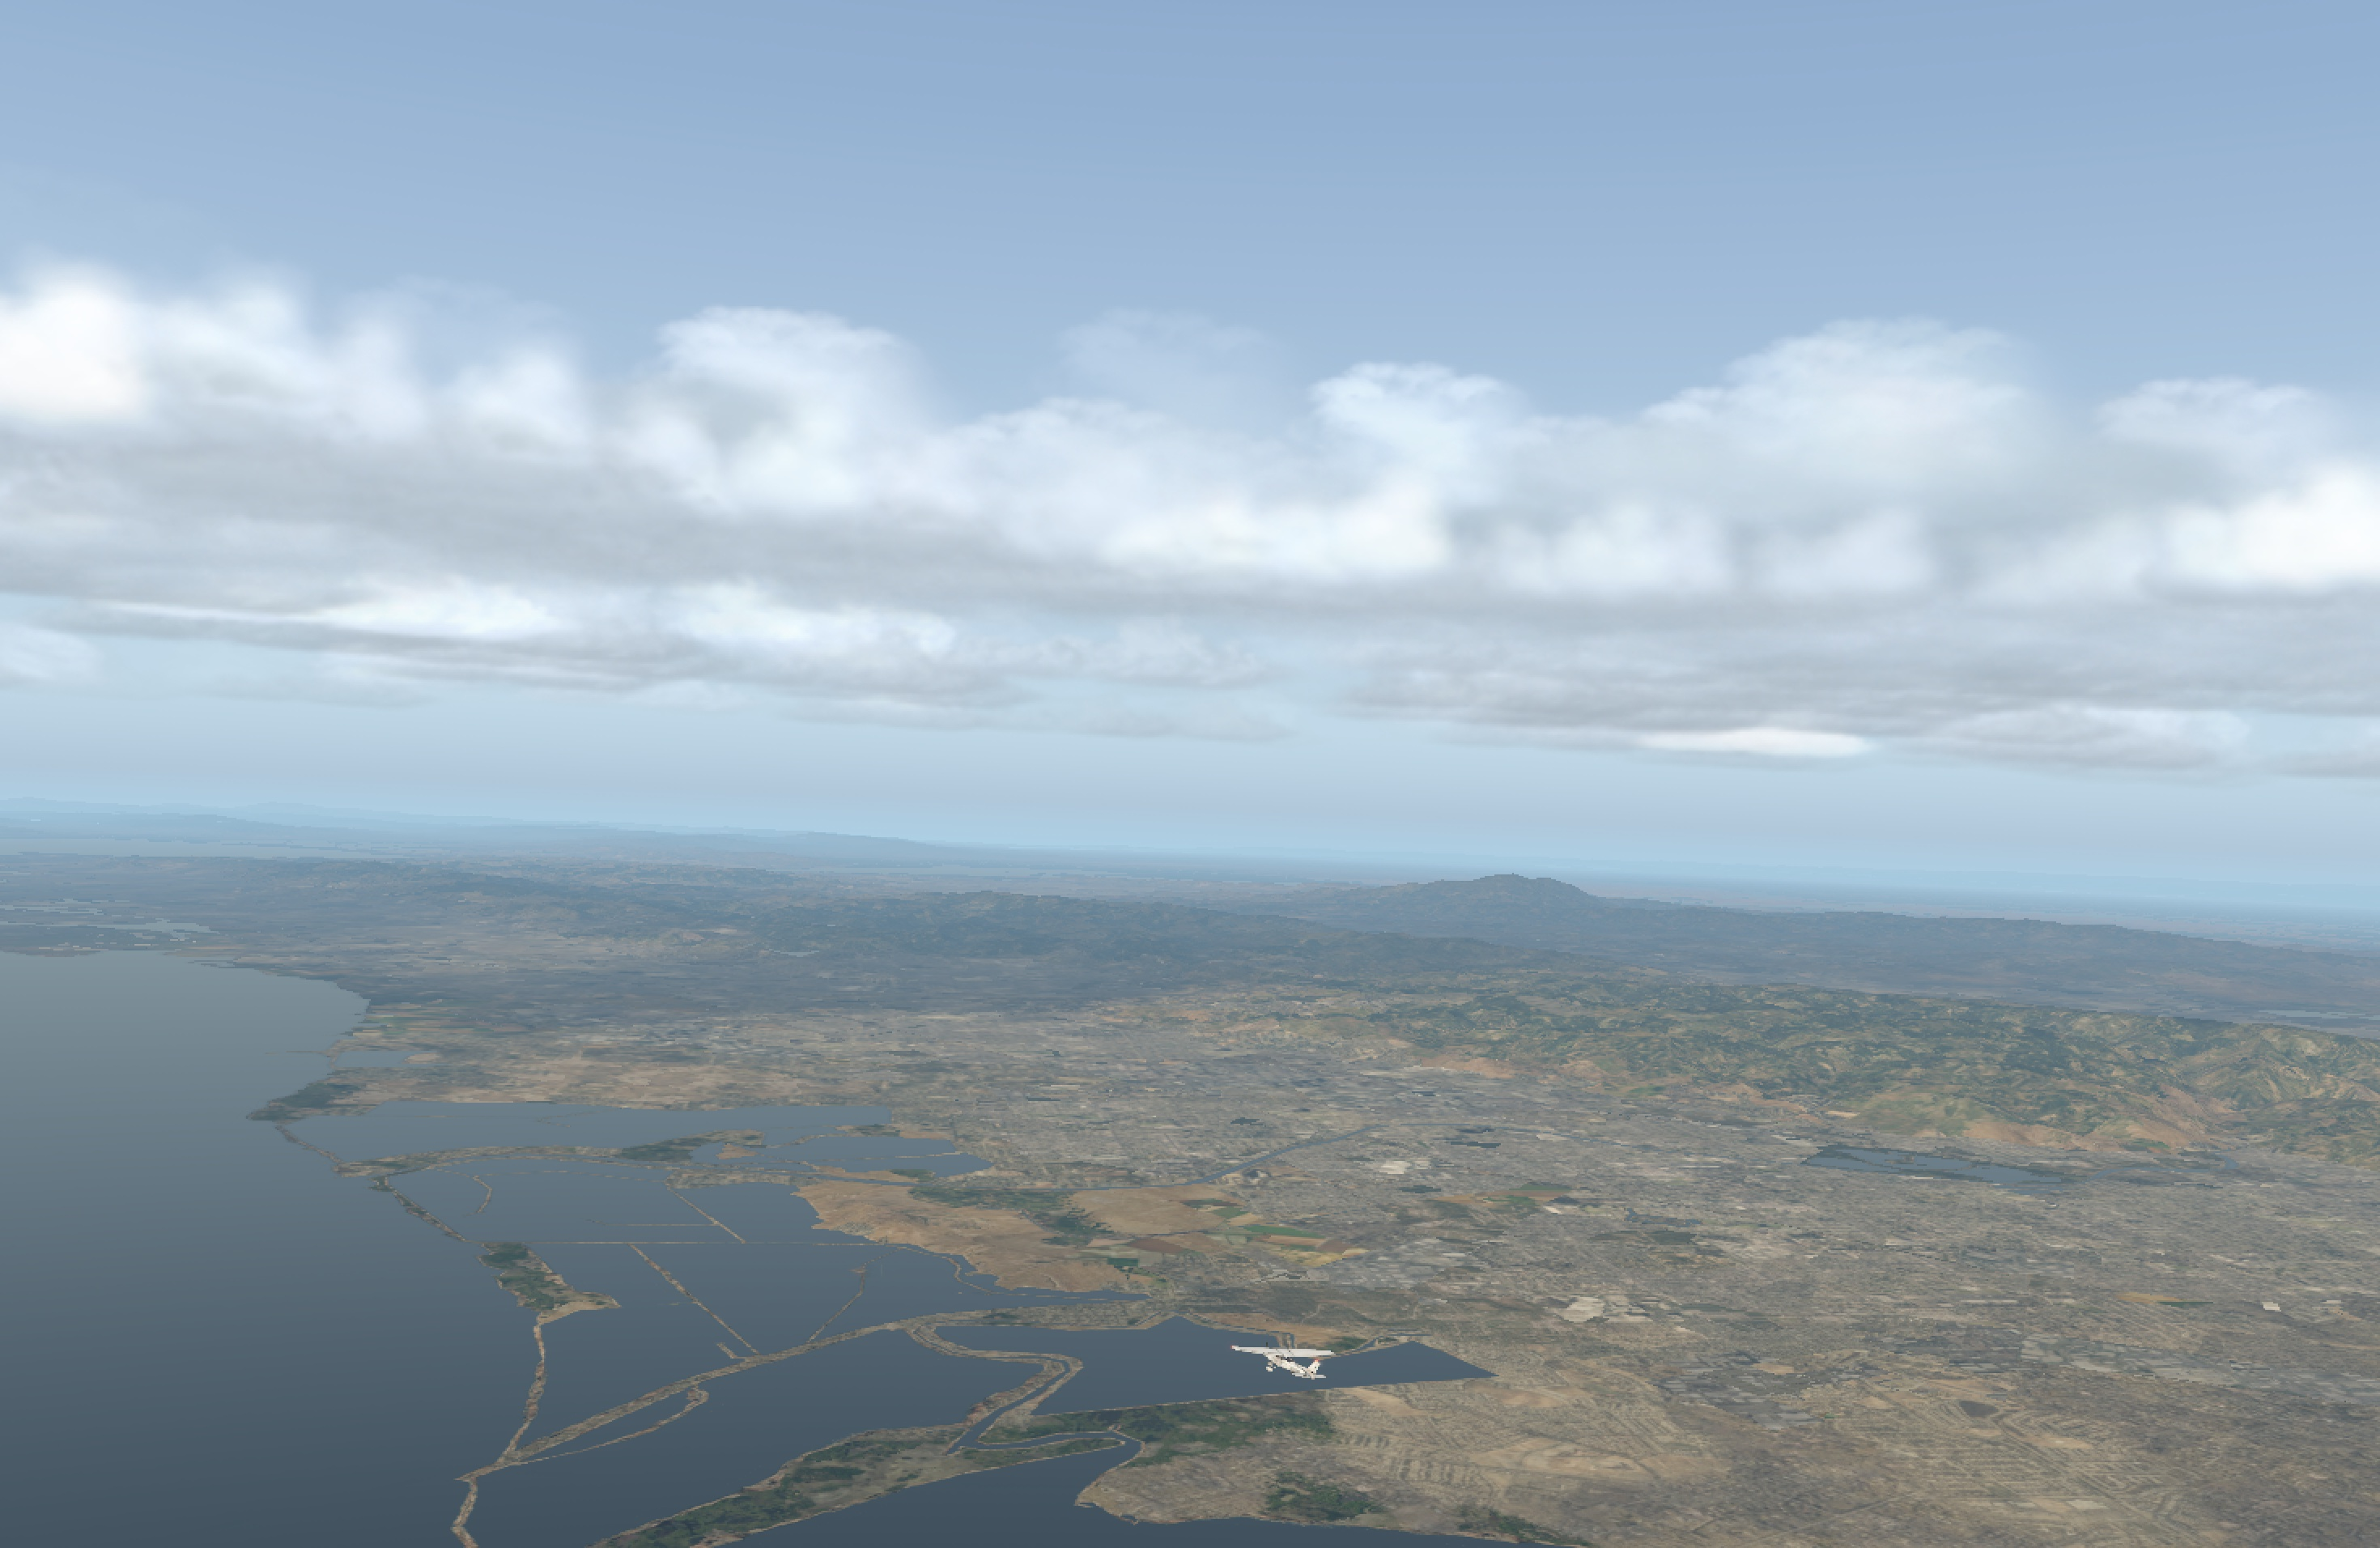aircraft: (1239, 1341, 1324, 1373)
